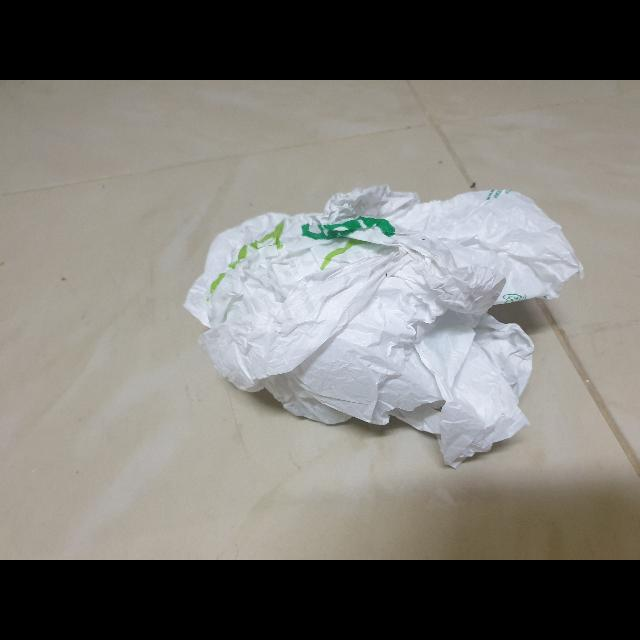plastic_bag: (168, 172, 598, 476)
